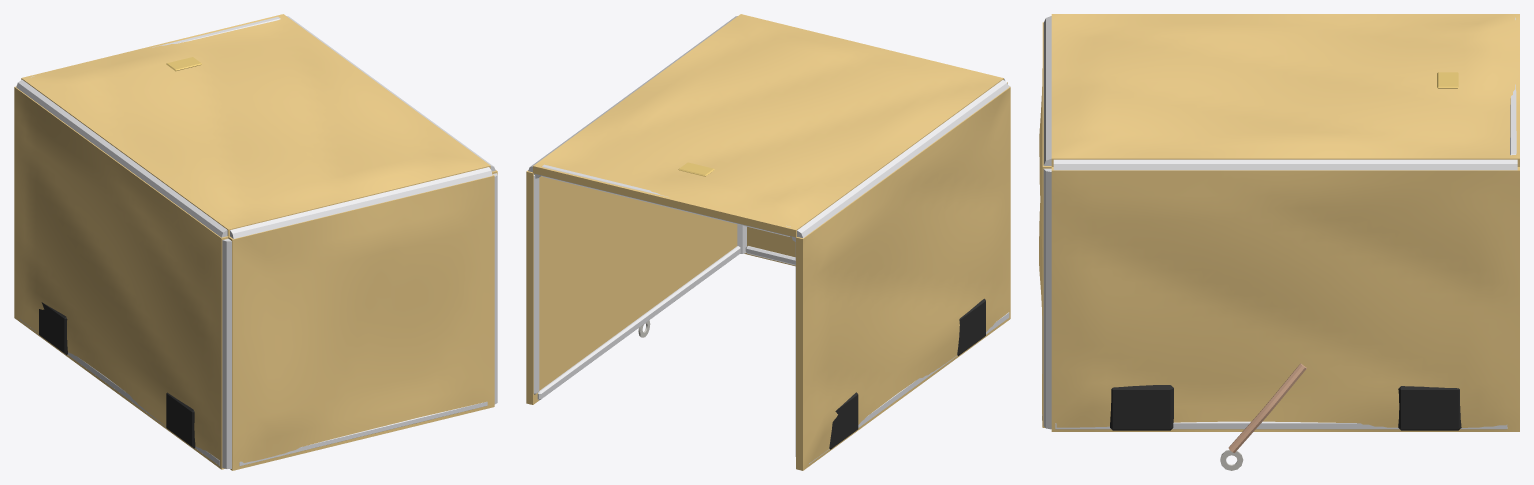
The model's file is mli_blanket.glb.
3 renders of one model, left to right at view 1: azimuth 30°, elevation 25°; view 2: azimuth 150°, elevation 25°; view 3: azimuth 270°, elevation 25°, orthographic. The views are drawn at different scales.
Parts seen in each view (by area): view 1: mli_blanket; view 2: mli_blanket; view 3: mli_blanket.
Boxes of the visible parts, box(x1,y1,x2,y2) form: mli_blanket: box(14, 14, 497, 470); mli_blanket: box(526, 14, 1010, 470); mli_blanket: box(1039, 14, 1519, 470).
Bounding box in the file's own units: 0.1058 × 0.0948 × 0.1335.
